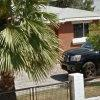Palm tree: (2, 2, 60, 90)
